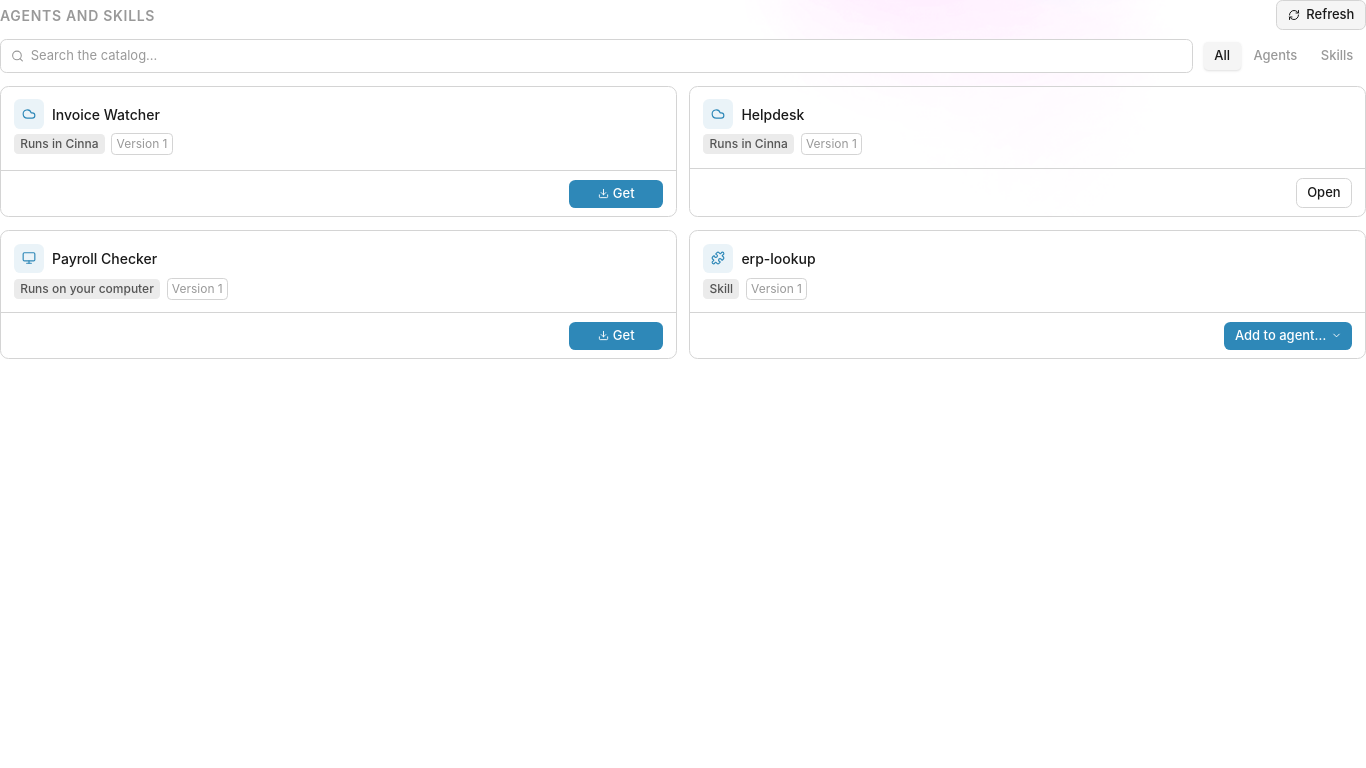
CatalogSettingsSection › a failed uninstall keeps the confirm open, with the reason in it
The width and height of the screenshot is (1366, 768).
Expected: the button "Open" is shown, [1296,178,1352,208]
What coordinates should you click on to do the following:
click the button "Helpdesk Runs in Cinna Version 1"
I would click on:
 (773, 114)
Its box is [690,86,1365,168].
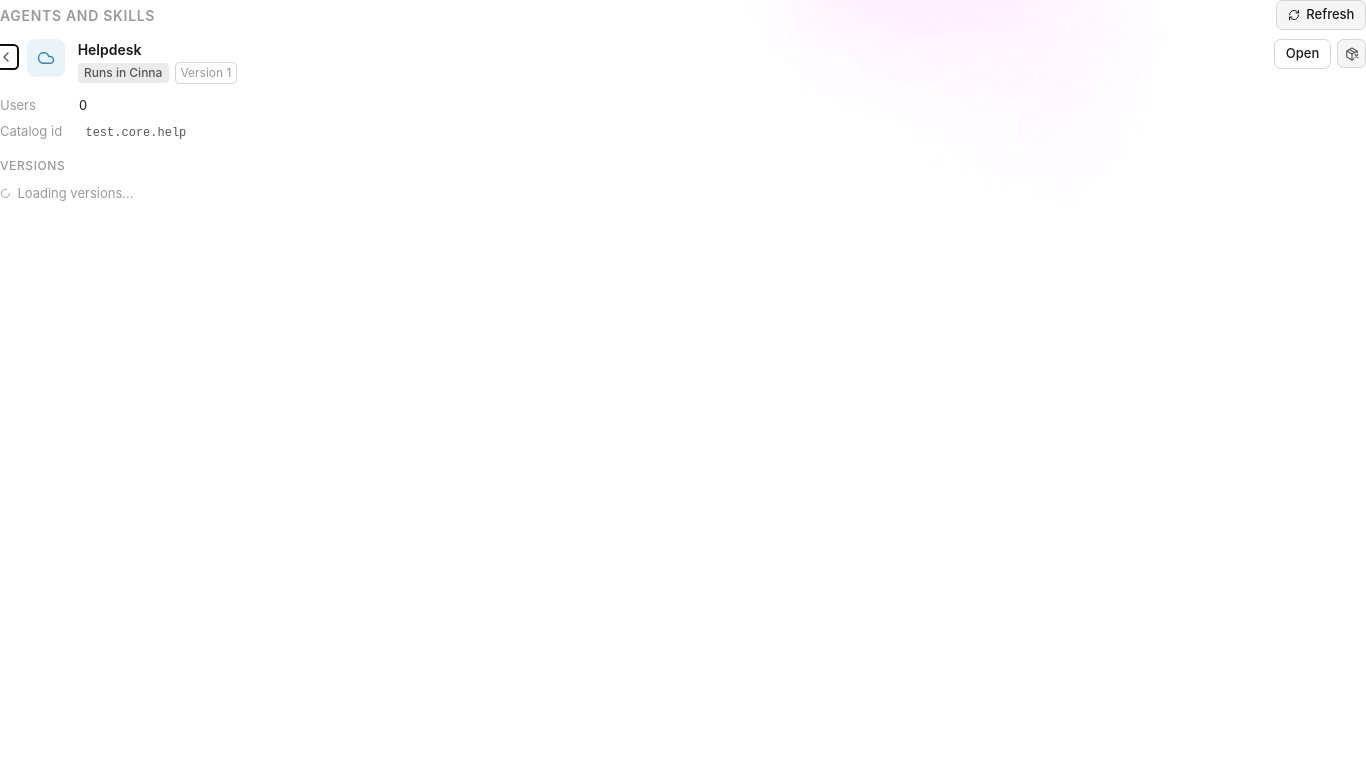
What coordinates should you click on to do the following:
click the button named "Uninstall Helpdesk"
I would click on:
 (1352, 54)
Its box is [1337,39,1365,68].
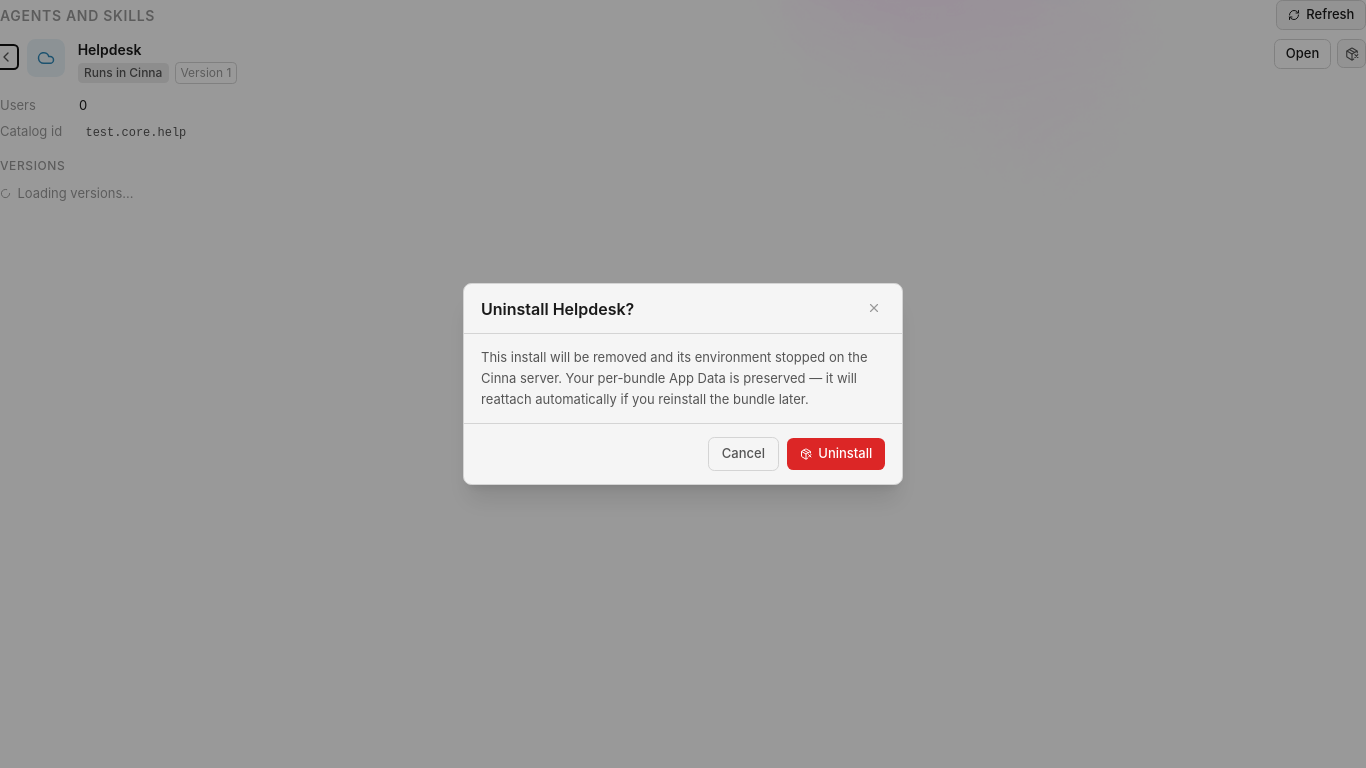
What coordinates should you click on to do the following:
click the button "Uninstall"
I would click on:
 (836, 454)
Its box is [787,438,885,470].
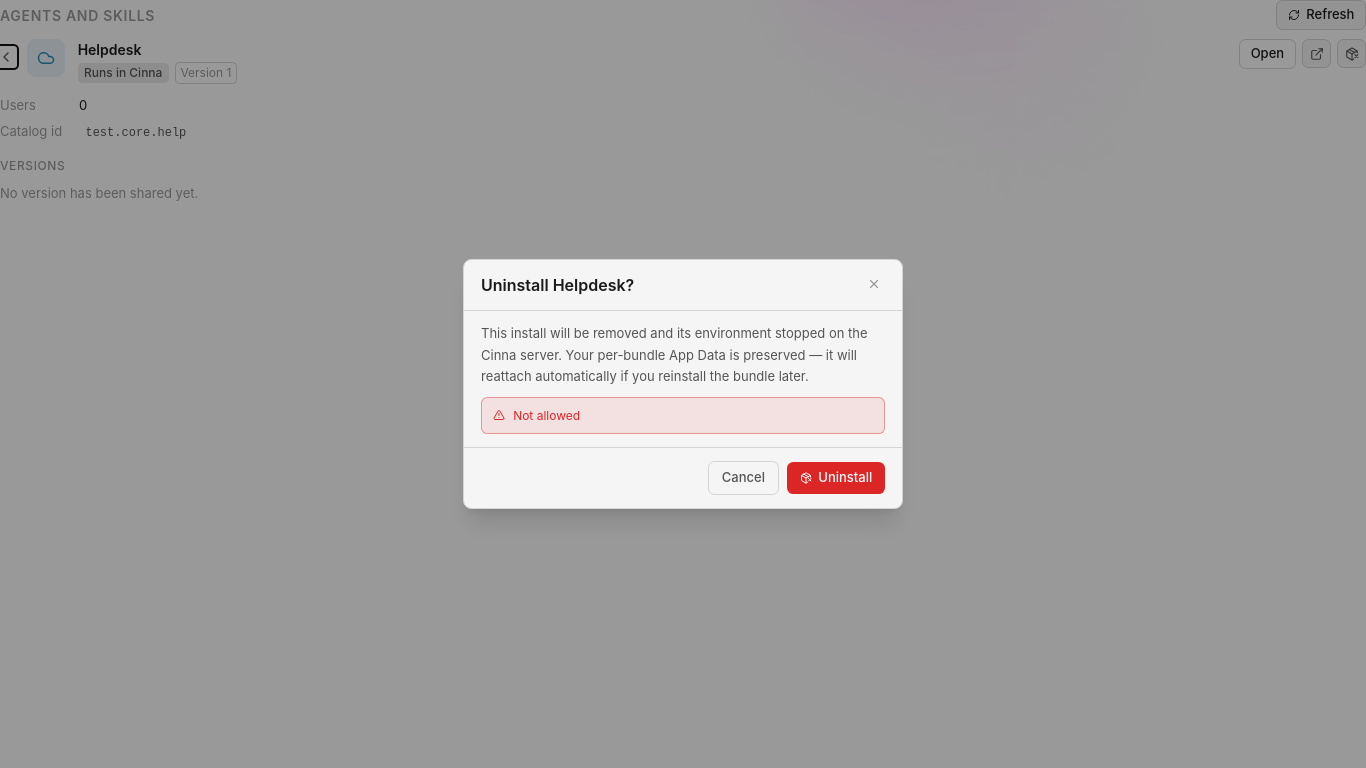
Now the text "Not allowed" is shown, box [513,407,580,425]
